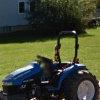Tractor: (5, 39, 100, 98)
